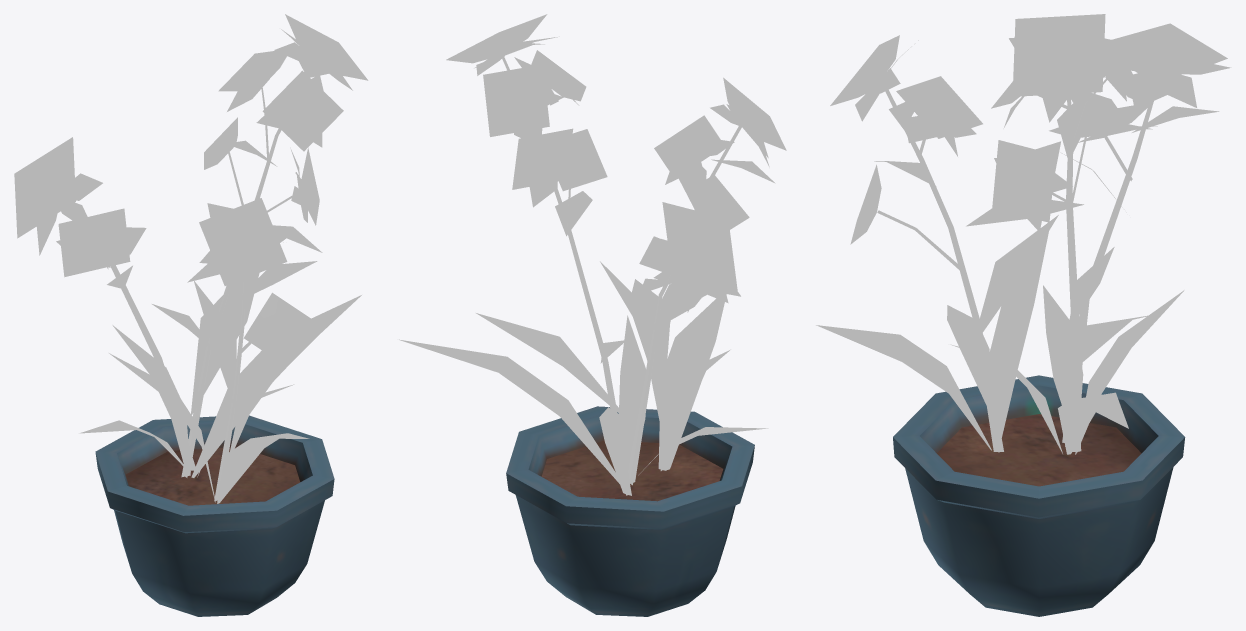
Rendered from Homeworld_Interior_Md_Thing_Vase_04_Vo.fbx.
3 renders of one model, left to right at view 1: azimuth 30°, elevation 25°; view 2: azimuth 150°, elevation 25°; view 3: azimuth 270°, elevation 25°, orthographic. The views are drawn at different scales.
Visible parts, largest first — view 1: Area_Common_Prop_Flower_Yellow_01_Vo, Area_Common_Prop_Flowerpot_05_Vo (1); view 2: Area_Common_Prop_Flower_Yellow_01_Vo, Area_Common_Prop_Flowerpot_05_Vo (1); view 3: Area_Common_Prop_Flower_Yellow_01_Vo, Area_Common_Prop_Flowerpot_05_Vo (1).
Boxes of the visible parts, bbox=[...] form: Area_Common_Prop_Flower_Yellow_01_Vo: bbox=[14, 14, 368, 503]; Area_Common_Prop_Flowerpot_05_Vo (1): bbox=[95, 415, 334, 616]; Area_Common_Prop_Flower_Yellow_01_Vo: bbox=[399, 14, 786, 495]; Area_Common_Prop_Flowerpot_05_Vo (1): bbox=[506, 406, 754, 616]; Area_Common_Prop_Flower_Yellow_01_Vo: bbox=[816, 14, 1231, 454]; Area_Common_Prop_Flowerpot_05_Vo (1): bbox=[893, 375, 1185, 616].
Size of the model in its own units: 0.546 by 0.825 by 0.496.
